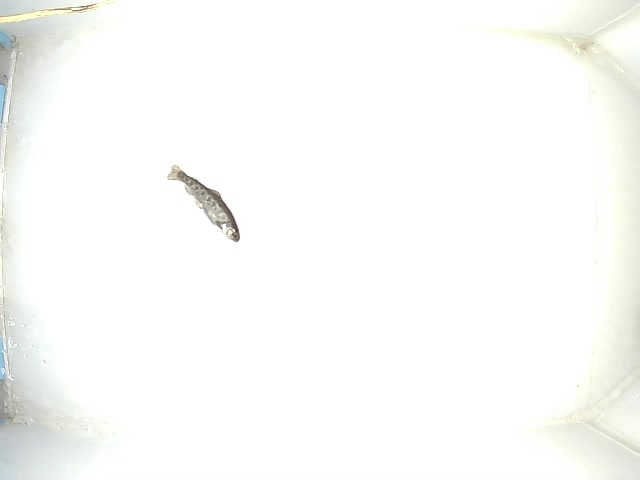fish: (167, 162, 242, 244)
